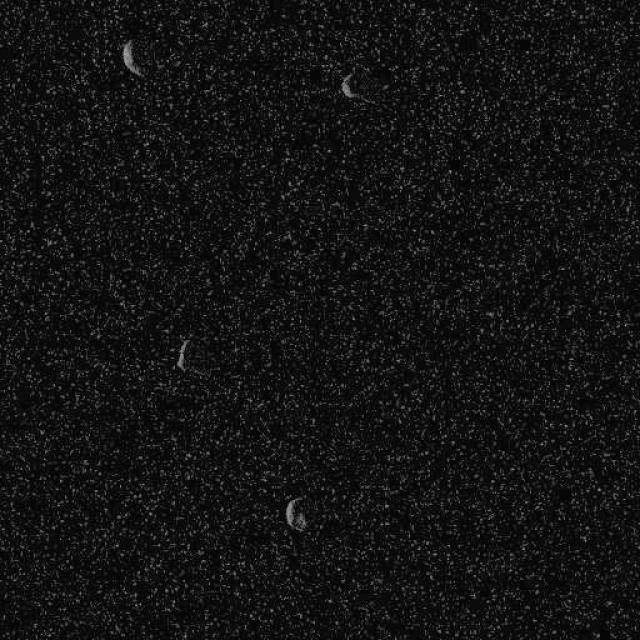D2: (284, 495, 308, 533), (120, 38, 142, 76), (174, 336, 191, 372), (339, 69, 359, 99)
